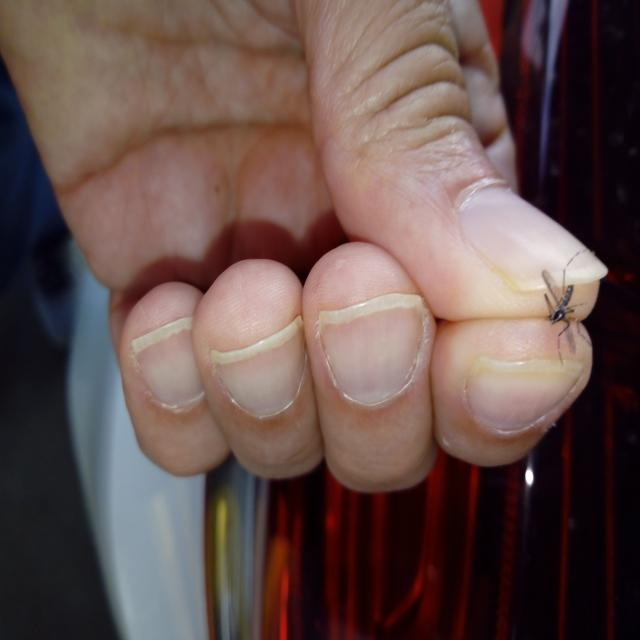albopictus: (534, 243, 596, 359)
